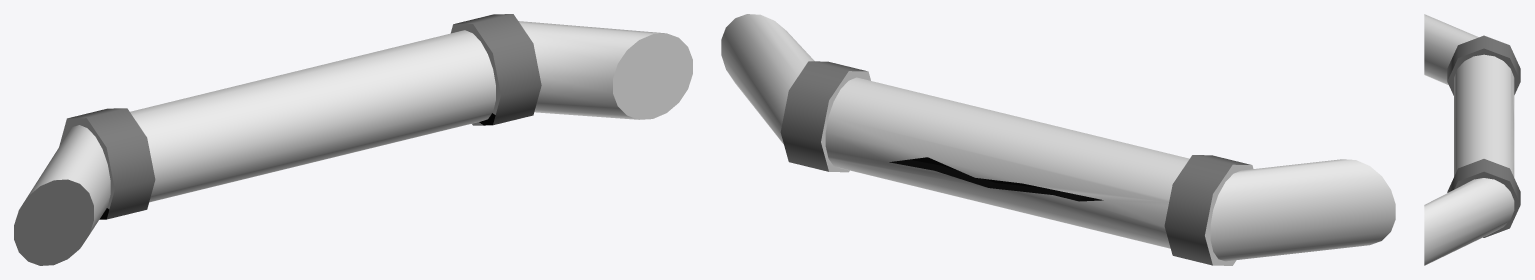
Rendered from cracked Pipe 01.FBX.
The picture shows the model from 3 angles, left to right: view 1: azimuth 30°, elevation 25°; view 2: azimuth 150°, elevation 25°; view 3: azimuth 270°, elevation 25°; orthographic projection. The views are drawn at different scales.
Visible parts, largest first — view 1: Cylinder001; view 2: Cylinder001; view 3: Cylinder001.
Part boxes in pixels (x1,y1,x2,y2): Cylinder001: (14,14,692,265); Cylinder001: (721,14,1395,265); Cylinder001: (1424,14,1520,265).
Bounding box in the file's own units: 167 × 31.52 × 24.
